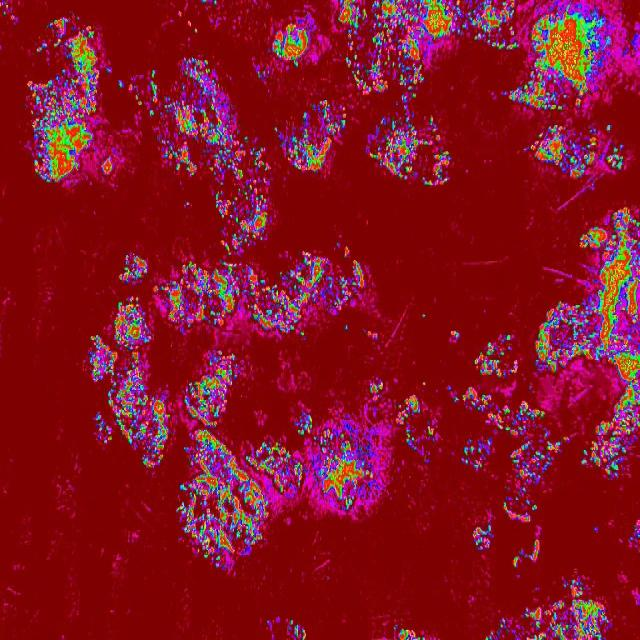fire: (170, 253, 365, 336), (86, 300, 170, 468), (174, 428, 270, 572), (26, 14, 103, 184), (158, 57, 252, 177), (522, 4, 616, 114), (586, 206, 640, 382), (339, 0, 465, 51), (368, 115, 453, 187), (502, 437, 567, 523), (308, 431, 376, 511), (274, 100, 347, 172), (448, 384, 546, 436), (182, 348, 243, 428), (212, 176, 272, 254), (532, 300, 586, 378), (524, 122, 597, 178), (344, 53, 426, 98), (522, 599, 611, 640), (464, 0, 520, 49), (611, 384, 640, 476), (474, 334, 520, 380), (270, 440, 306, 496), (273, 23, 311, 69), (582, 420, 610, 475), (462, 438, 493, 468), (120, 252, 148, 282), (398, 394, 422, 427), (482, 616, 509, 640), (474, 522, 494, 554), (606, 145, 630, 171), (392, 622, 426, 640), (146, 67, 158, 116), (294, 411, 314, 437), (562, 577, 584, 599), (252, 146, 270, 172), (524, 536, 542, 562), (286, 619, 308, 640), (124, 82, 142, 107), (0, 0, 16, 24), (503, 84, 522, 104), (366, 376, 384, 396), (404, 431, 419, 455), (629, 518, 640, 546), (102, 154, 114, 178), (153, 281, 169, 297), (336, 238, 352, 254), (396, 97, 410, 113), (254, 67, 270, 81), (426, 424, 437, 444), (367, 328, 380, 344), (512, 551, 520, 569), (448, 330, 461, 340), (604, 121, 612, 135), (591, 523, 599, 537), (104, 64, 112, 76), (115, 79, 124, 89), (420, 312, 427, 321), (184, 200, 190, 210), (212, 0, 220, 6), (192, 26, 198, 34), (186, 20, 192, 28), (422, 380, 426, 390), (200, 0, 209, 4)
